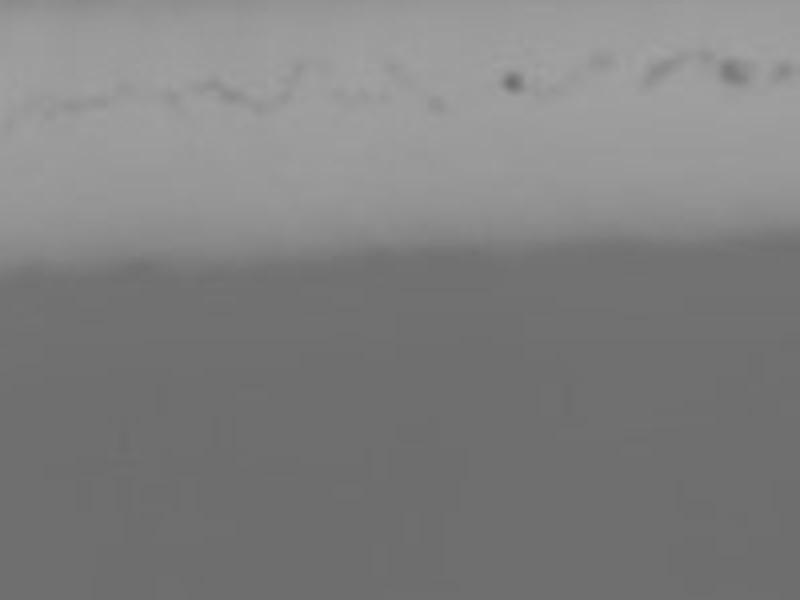defect: (637, 59, 680, 83), (719, 56, 746, 85), (588, 45, 615, 70), (61, 97, 110, 110), (498, 71, 525, 93), (678, 45, 712, 62), (770, 60, 792, 83), (381, 55, 403, 76), (425, 94, 443, 118), (160, 85, 180, 106), (194, 76, 220, 91), (222, 84, 242, 102), (249, 100, 269, 118), (325, 83, 344, 99), (288, 65, 305, 82), (378, 86, 394, 104), (278, 87, 292, 104), (43, 109, 60, 121)
